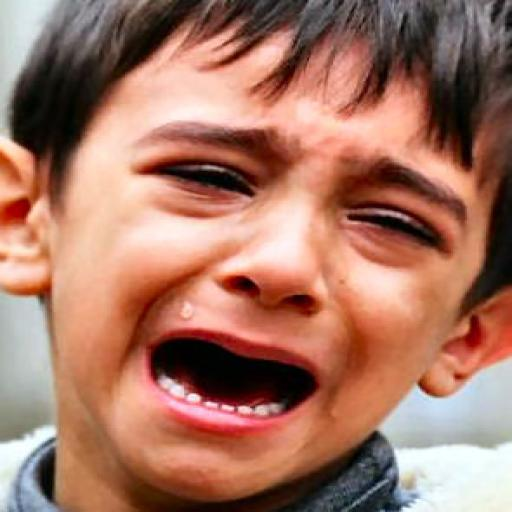Autism: (25, 8, 512, 498)
